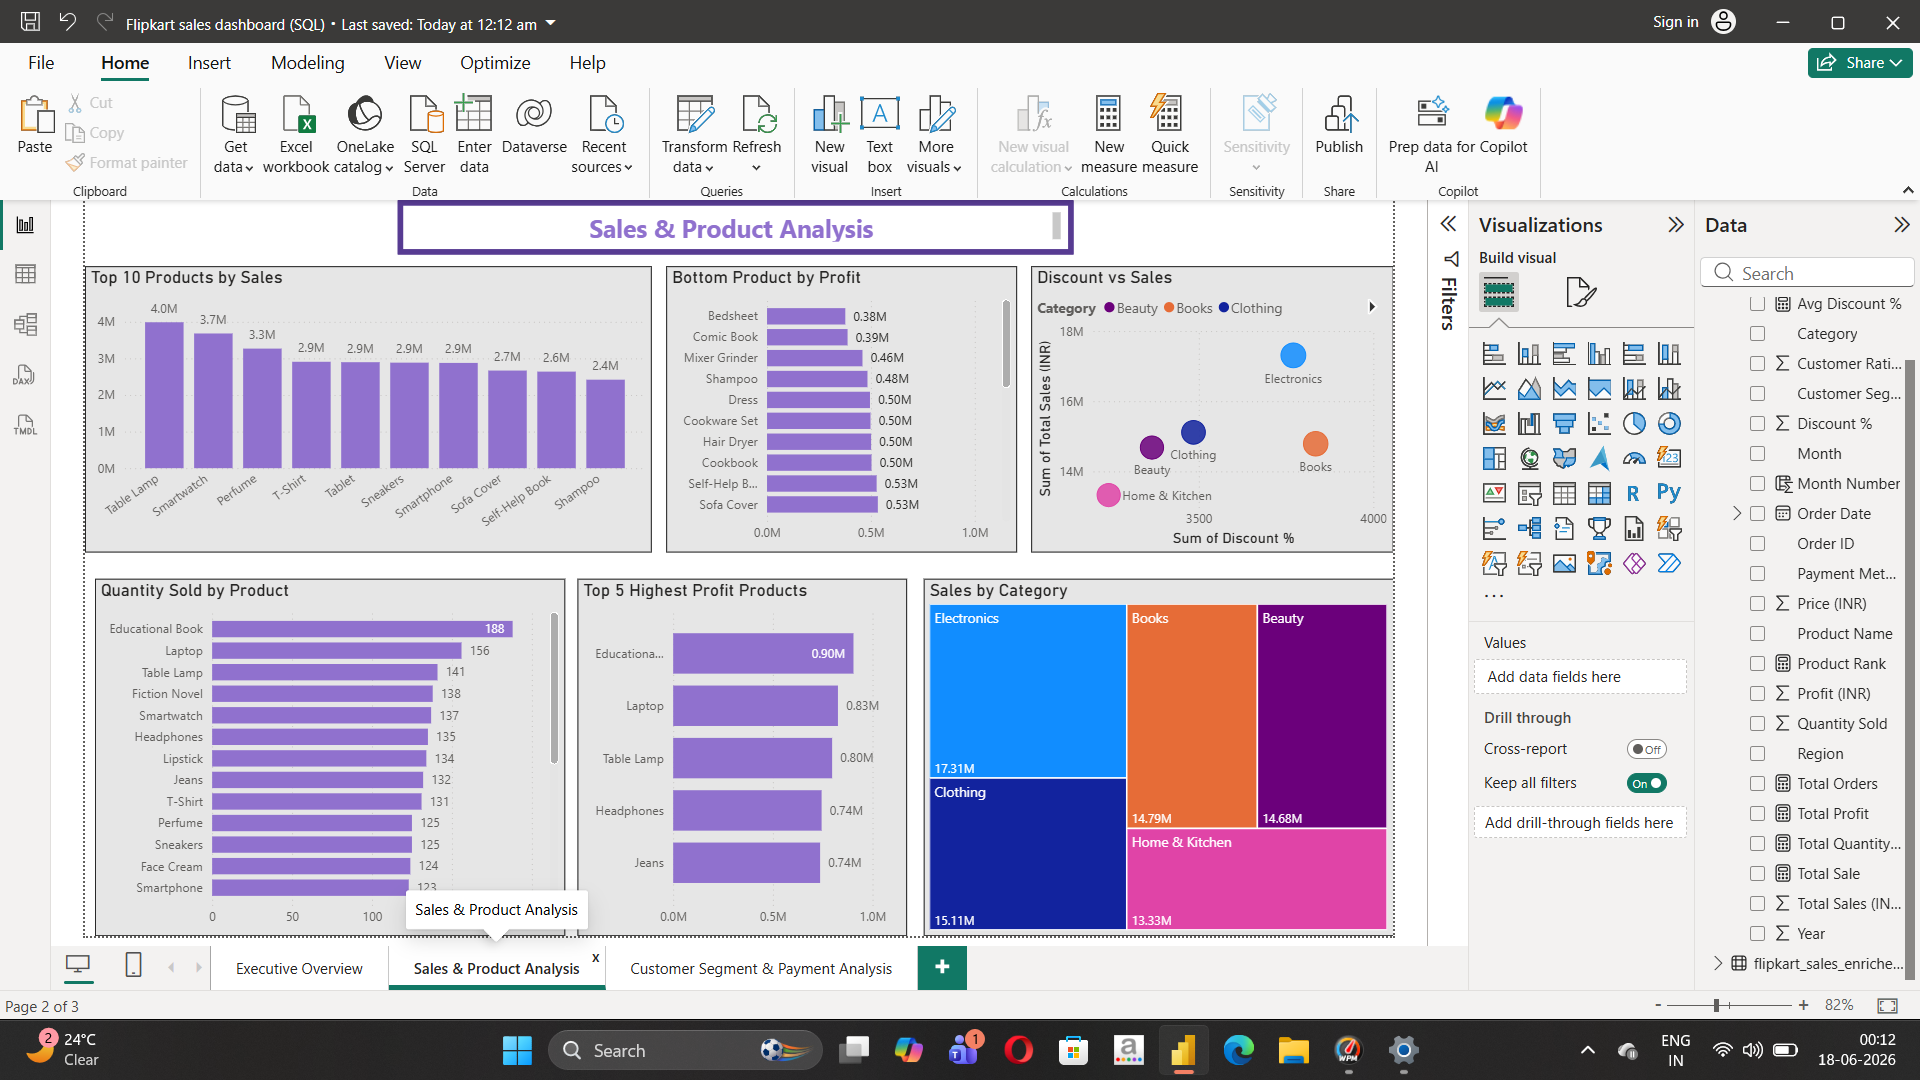

The dashboard page shown, as its layout file describes it:
{"tool":"powerbi","page":{"name":"Sales & Product Analysis","canvas":[1280,720],"ordinal":1},"visuals":[{"type":"columnChart","title":"Top 10 Products by Sales","fields":{"Y":["Sum(flipkart_sales_enriched - Copy.Total Sales (INR))"],"Category":["flipkart_sales_enriched - Copy.Product Name"]},"box":[0,64.5,554.4,279.9],"z":0},{"type":"barChart","title":"Quantity Sold by Product","fields":{"Category":["flipkart_sales_enriched - Copy.Product Name"],"Y":["Sum(flipkart_sales_enriched - Copy.Quantity Sold)"]},"box":[9.6,370.5,459.7,349.9],"z":1000},{"type":"treemap","title":"Sales by Category","fields":{"Group":["flipkart_sales_enriched - Copy.Category"],"Values":["Sum(flipkart_sales_enriched - Copy.Total Sales (INR))"]},"box":[820.6,370.5,459.7,349.9],"z":2000},{"type":"scatterChart","title":"Discount vs Sales","fields":{"X":["Sum(flipkart_sales_enriched - Copy.Discount %)"],"Y":["Sum(flipkart_sales_enriched - Copy.Total Sales (INR))"],"Series":["flipkart_sales_enriched - Copy.Category"],"Size":["Sum(flipkart_sales_enriched - Copy.Quantity Sold)"]},"box":[926.2,64.5,354,279.9],"z":3000},{"type":"barChart","title":"Top 5 Highest Profit Products","fields":{"Y":["Sum(flipkart_sales_enriched - Copy.Profit (INR))"],"Category":["flipkart_sales_enriched - Copy.Product Name"]},"box":[481.6,370.5,322.5,349.9],"z":4000},{"type":"barChart","title":"Bottom Product by Profit","fields":{"Y":["Sum(flipkart_sales_enriched - Copy.Profit (INR))"],"Category":["flipkart_sales_enriched - Copy.Product Name"]},"box":[568.1,64.5,343.1,279.9],"z":5000},{"type":"textbox","box":[306,0,661.4,53.5],"z":6000}]}

Visuals, with their boxes on the page's 1280x720 design canvas (x1, y1, x2, y2). These are canvas units, not pixel positions in the 1920x1080 screenshot, which may show the page scaled, cropped or inside an application window:
"Top 10 Products by Sales" columnChart: [x1=0, y1=64, x2=554, y2=344]
"Quantity Sold by Product" barChart: [x1=10, y1=370, x2=469, y2=720]
"Sales by Category" treemap: [x1=821, y1=370, x2=1280, y2=720]
"Discount vs Sales" scatterChart: [x1=926, y1=64, x2=1280, y2=344]
"Top 5 Highest Profit Products" barChart: [x1=482, y1=370, x2=804, y2=720]
"Bottom Product by Profit" barChart: [x1=568, y1=64, x2=911, y2=344]
textbox: [x1=306, y1=0, x2=967, y2=54]
